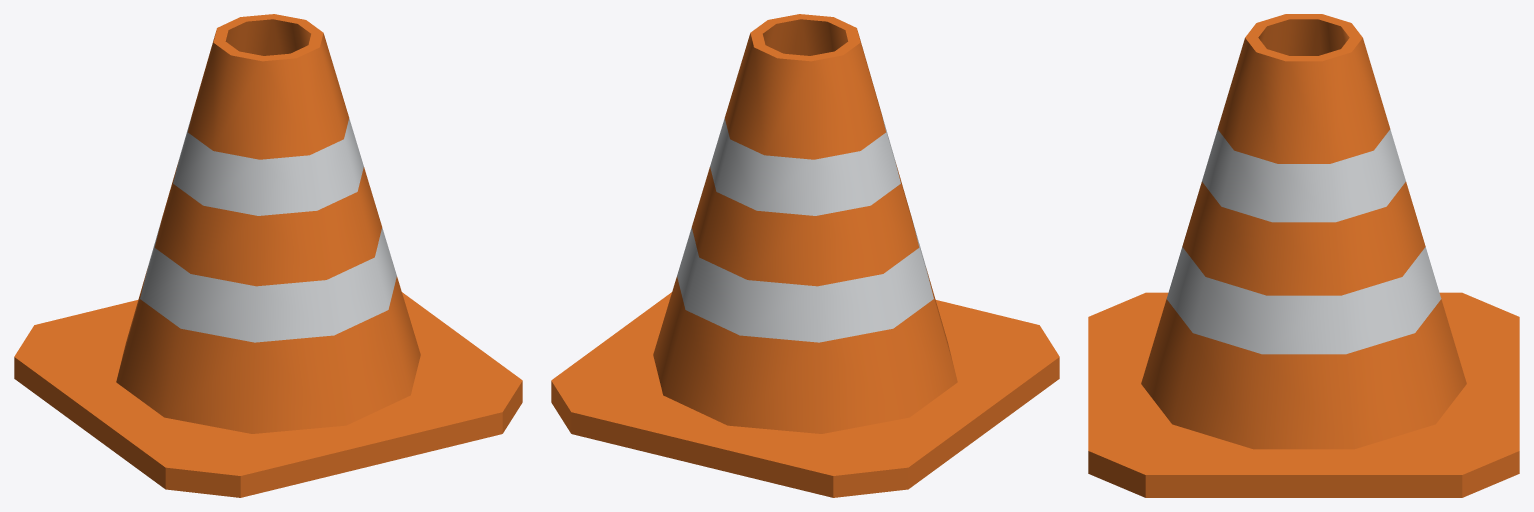
The model's file is traffic_cone.glb.
3 renders of one model, left to right at view 1: azimuth 30°, elevation 25°; view 2: azimuth 150°, elevation 25°; view 3: azimuth 270°, elevation 25°, orthographic. The views are drawn at different scales.
Visible parts, largest first — view 1: traffic_cone; view 2: traffic_cone; view 3: traffic_cone.
Boxes of the visible parts, x1,y1,x2,y2 form: traffic_cone: (14,14,522,497); traffic_cone: (551,14,1059,497); traffic_cone: (1088,14,1519,497).
Size of the model in its own units: 0.8476 by 0.8 by 0.8476.
